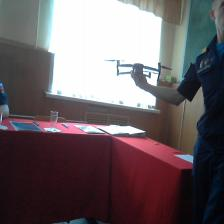drone: (104, 51, 174, 84)
